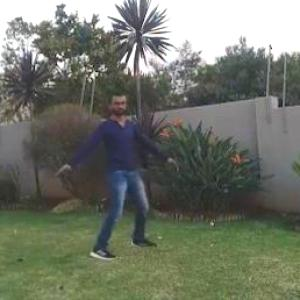land: (42, 60, 179, 285)
